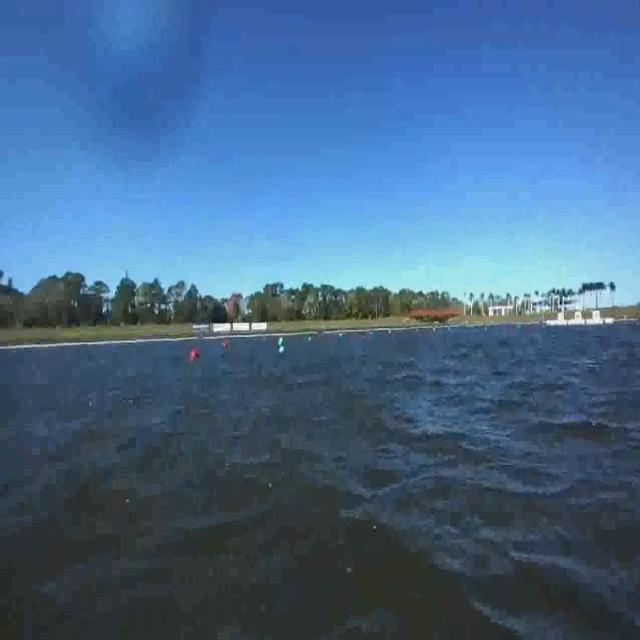green-buoy: (277, 342, 287, 360)
red-buoy: (190, 348, 198, 360)
